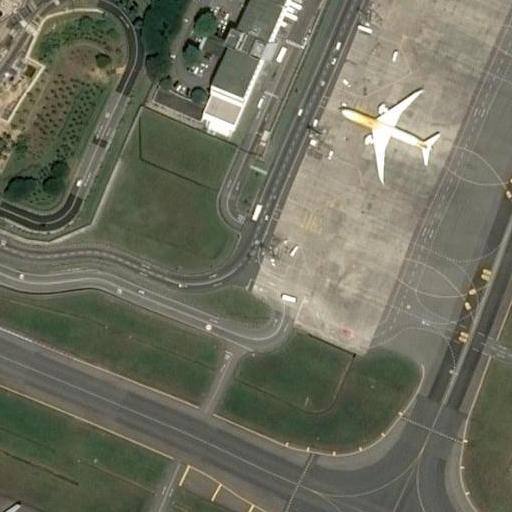Aircraft: (338, 83, 440, 182), (0, 501, 41, 512)
